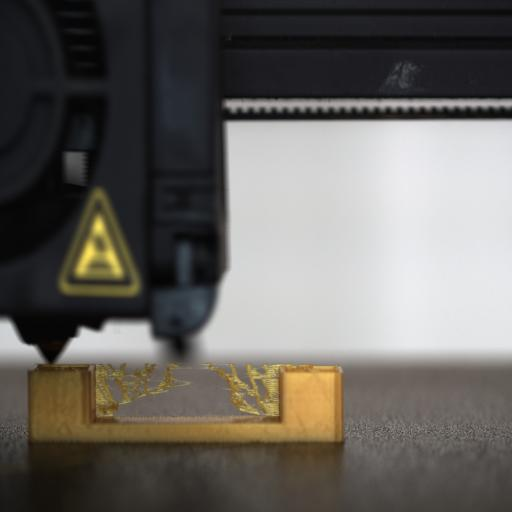stringing: (93, 361, 278, 418)
